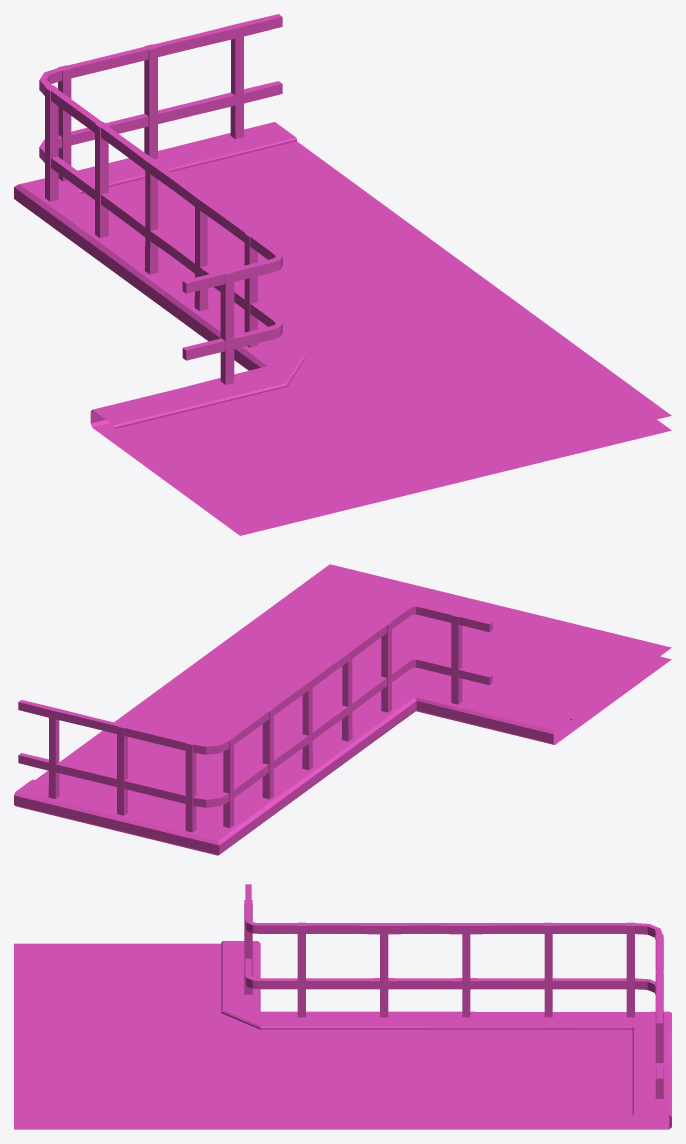
The model's file is Pasarelas.fbx.
3 renders of one model, top to bottom at view 1: azimuth 30°, elevation 25°; view 2: azimuth 150°, elevation 25°; view 3: azimuth 270°, elevation 25°, orthographic. The views are drawn at different scales.
Parts seen in each view (by area): view 1: pCube223, pCube240, pCube241, pCube238; view 2: pCube223, pCube240, pCube241, pCube238; view 3: pCube223, pCube240, pCube238, pCube241.
Boxes of the visible parts, left/top/right/bottom form: pCube223: left=179, top=215, right=671, bottom=514; pCube240: left=14, top=14, right=421, bottom=308; pCube241: left=90, top=388, right=325, bottom=535; pCube238: left=163, top=178, right=472, bottom=341; pCube223: left=172, top=564, right=602, bottom=738; pCube240: left=14, top=665, right=337, bottom=855; pCube241: left=485, top=631, right=671, bottom=744; pCube238: left=133, top=636, right=377, bottom=768; pCube223: left=14, top=884, right=342, bottom=1129; pCube240: left=425, top=922, right=671, bottom=1129; pCube238: left=343, top=923, right=425, bottom=1129; pCube241: left=14, top=941, right=260, bottom=978.
Bounding box in the file's own units: 5 × 1.42 × 8.
